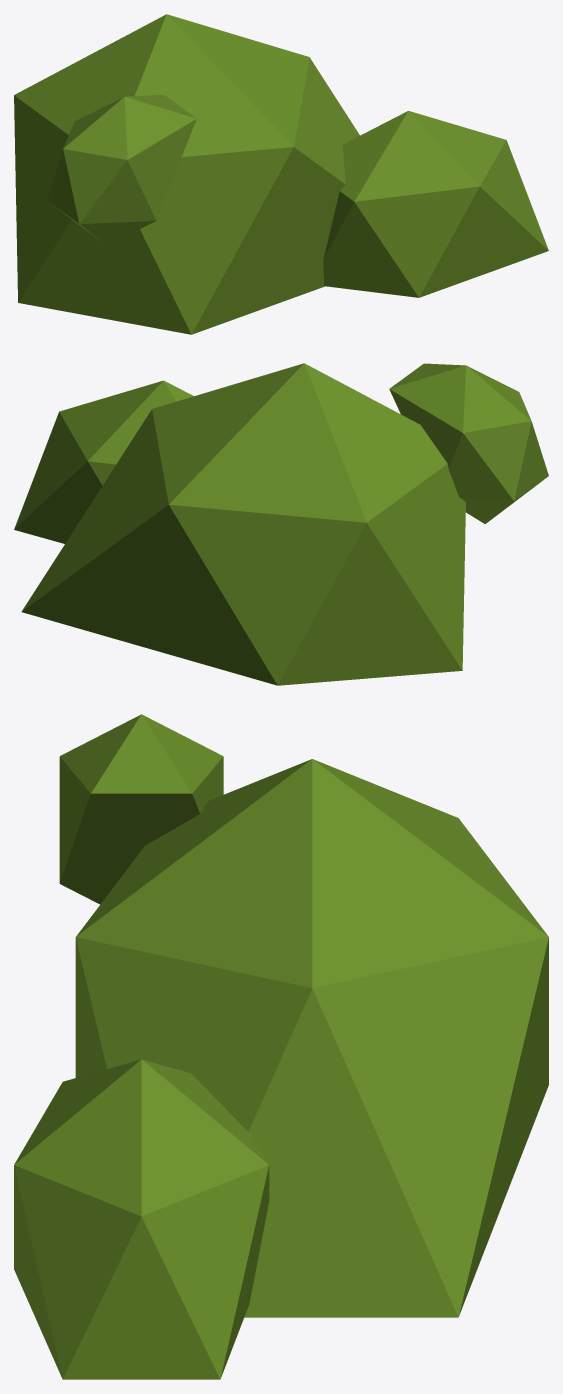
The model's file is bush1.fbx.
The picture shows the model from 3 angles, top to bottom: view 1: azimuth 30°, elevation 25°; view 2: azimuth 150°, elevation 25°; view 3: azimuth 270°, elevation 25°; orthographic projection. The views are drawn at different scales.
Visible parts, largest first — view 1: bush1; view 2: bush1; view 3: bush1.
Boxes of the visible parts, bbox=[...] form: bush1: bbox=[14, 14, 548, 334]; bush1: bbox=[14, 363, 548, 685]; bush1: bbox=[14, 714, 548, 1379].
Size of the model in its own units: 1574 by 825 by 1018.
